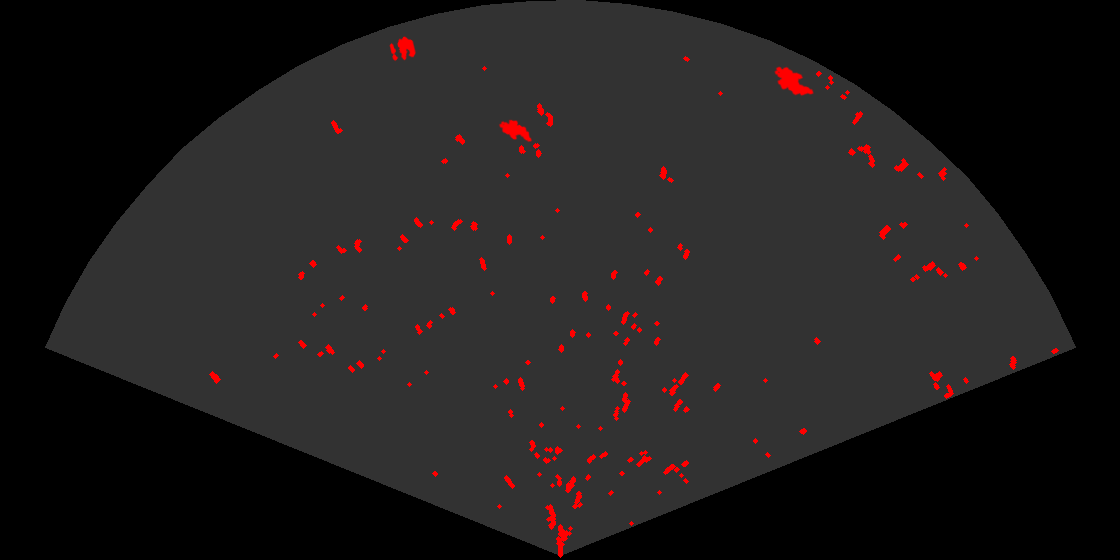AUV: (773, 65, 815, 98), (497, 118, 534, 144)
ball: (388, 35, 417, 63)
